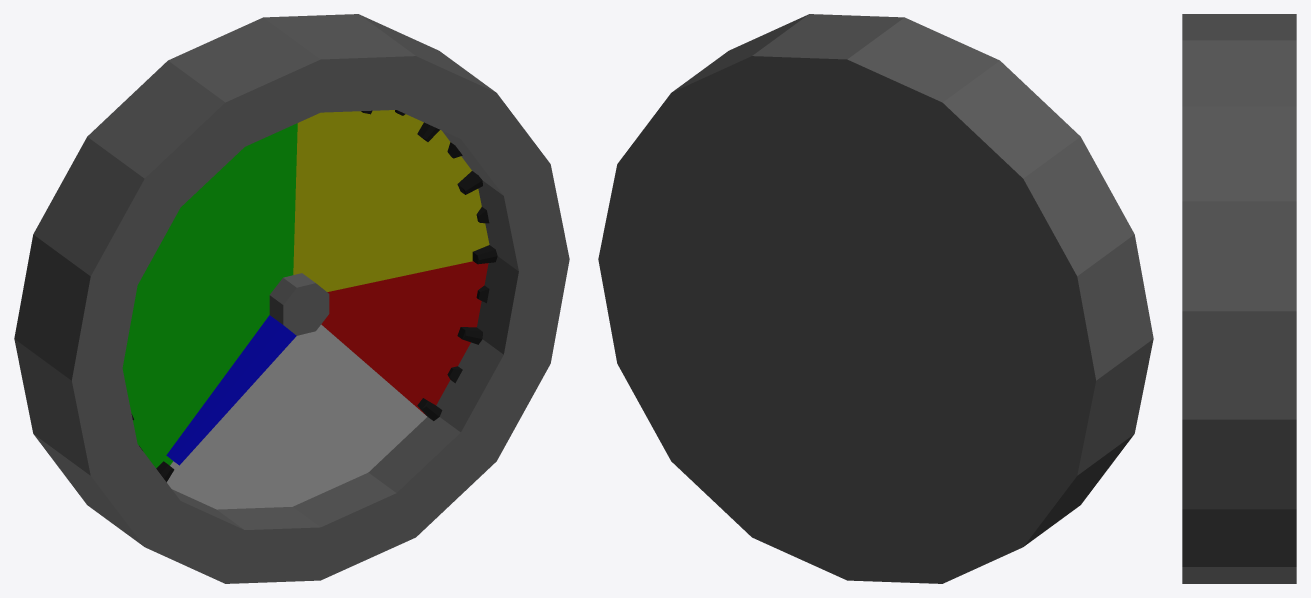
The model's file is speedometer.fbx.
The picture shows the model from 3 angles, left to right: view 1: azimuth 30°, elevation 25°; view 2: azimuth 150°, elevation 25°; view 3: azimuth 270°, elevation 25°; orthographic projection.
Visible parts, largest first — view 1: Speedometer_Ring, Speedometer_Needle; view 2: Speedometer_Ring; view 3: Speedometer_Ring.
Boxes of the visible parts, box(x1,y1,x2,y2) form: Speedometer_Ring: box(14, 14, 569, 583); Speedometer_Needle: box(166, 273, 329, 465); Speedometer_Ring: box(598, 14, 1153, 583); Speedometer_Ring: box(1182, 14, 1296, 583).
Size of the model in its own units: 200 by 40 by 200.
